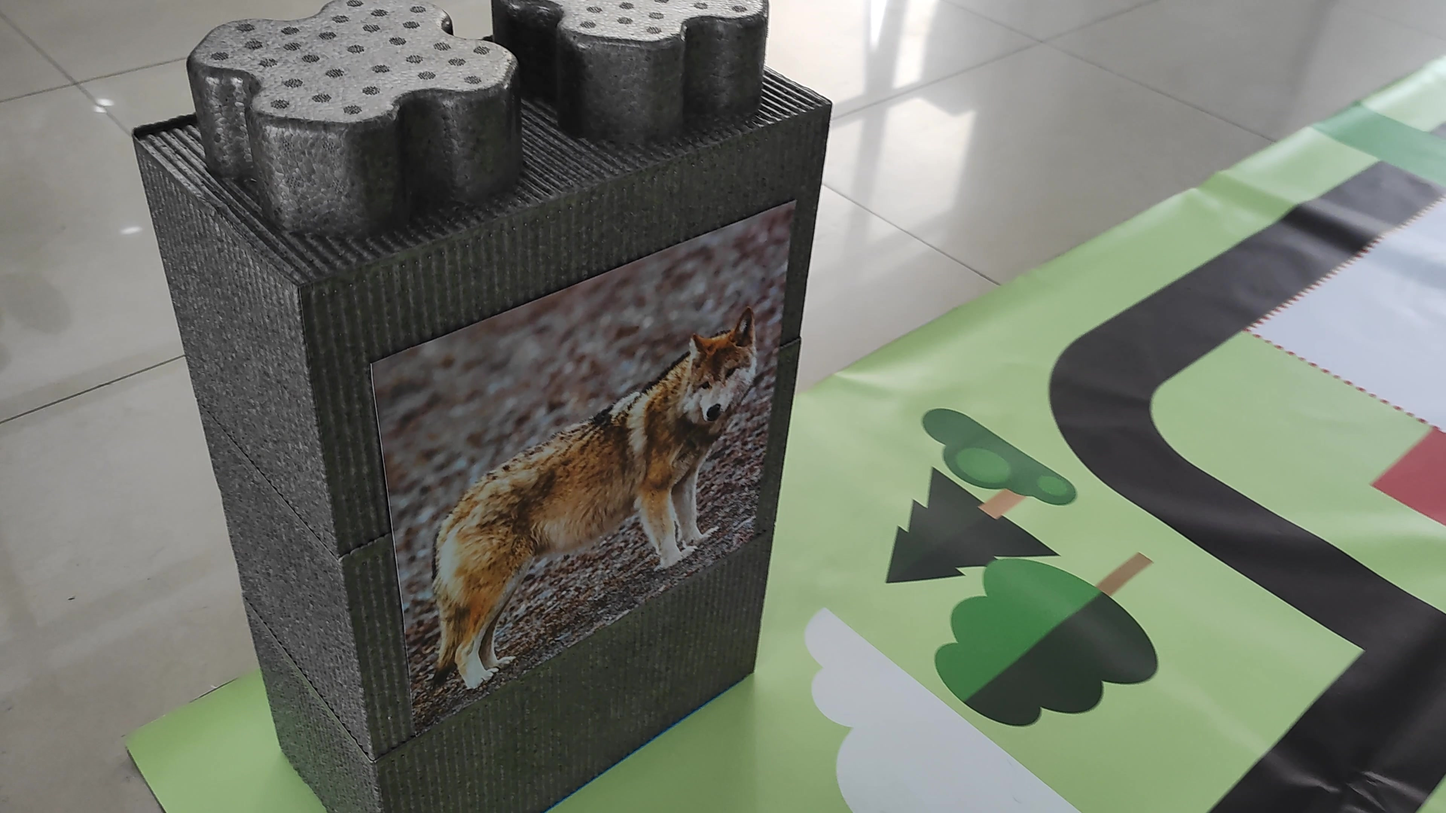wolf: (392, 298, 766, 712)
